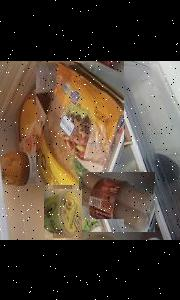Guacamole: (44, 188, 82, 237)
Salchichas: (79, 171, 155, 231)
Tortillas de trigo: (36, 60, 124, 184)
